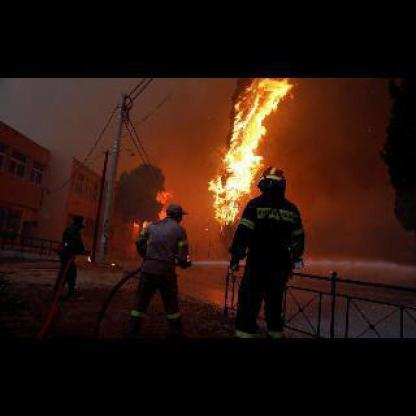fire: (204, 77, 296, 224), (133, 184, 174, 232)
